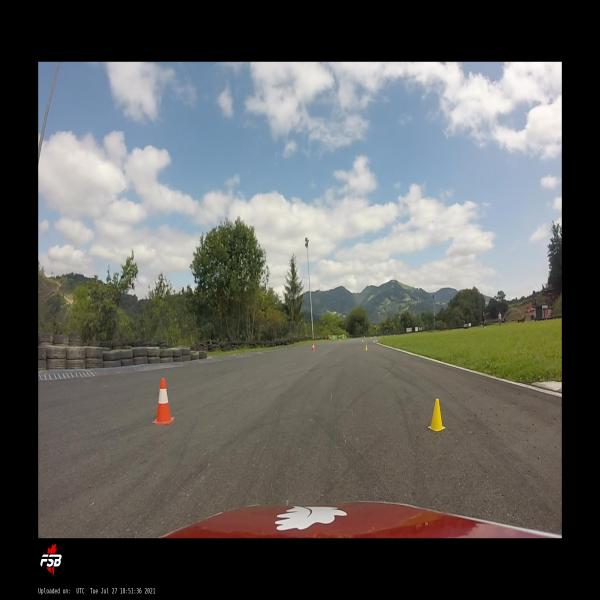orange_cone: (153, 378, 174, 424), (312, 344, 315, 352)
unknown_cone: (428, 398, 445, 431), (365, 344, 368, 351)
